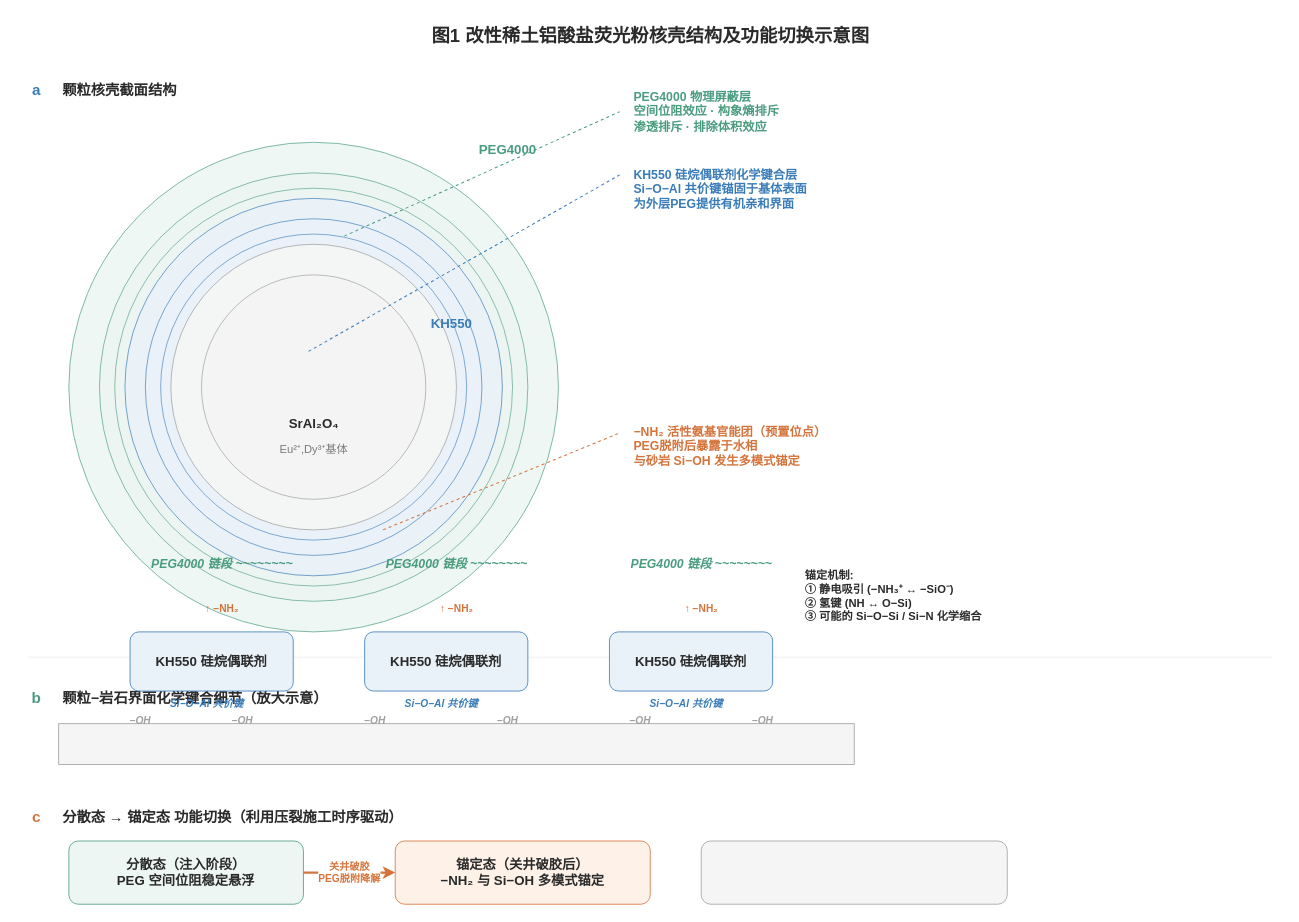
This 1299x922 diagram has some shape labels left out. The centre of each missing label's shape, as x and y in pixels:
"砂岩裂缝壁面 —— Si−OH 硅羟基密集分布" goes at (x=456, y=743).
"触发条件: 过硫酸铵 (NH₄)₂S₂O₈ 氧化 + 储层温度 60−150 °C + 6−48 h" goes at (x=853, y=872).
